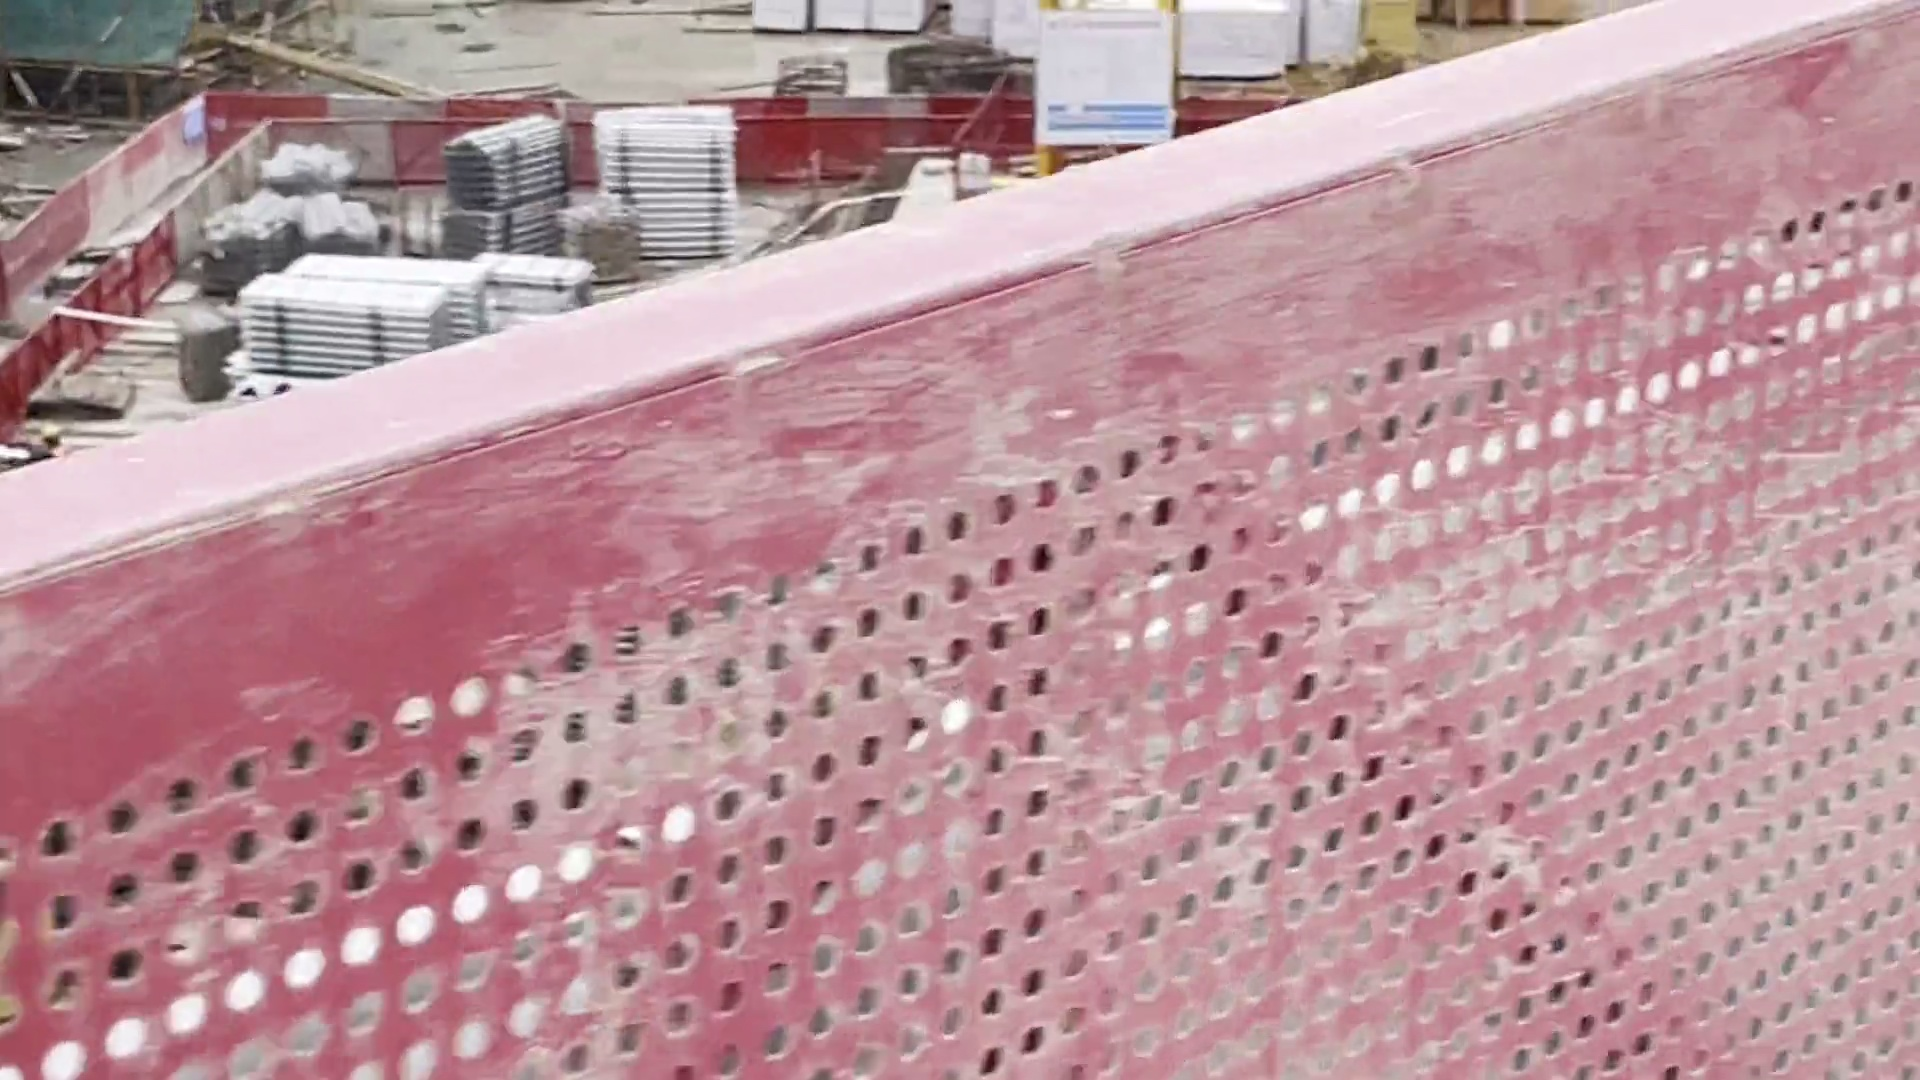fence: (1, 17, 1903, 1073)
scaffold: (144, 67, 731, 359)
